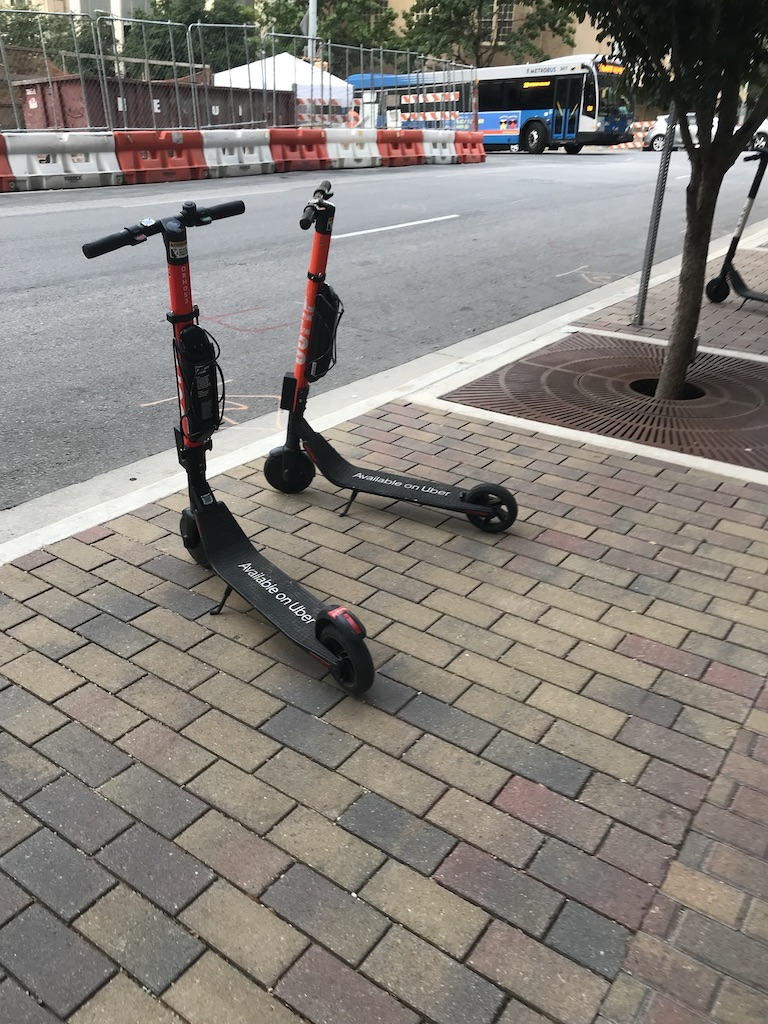scooter: (81, 198, 371, 691), (263, 185, 517, 537)
